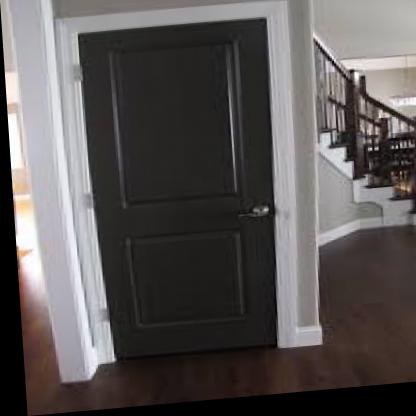door: (61, 11, 292, 368)
